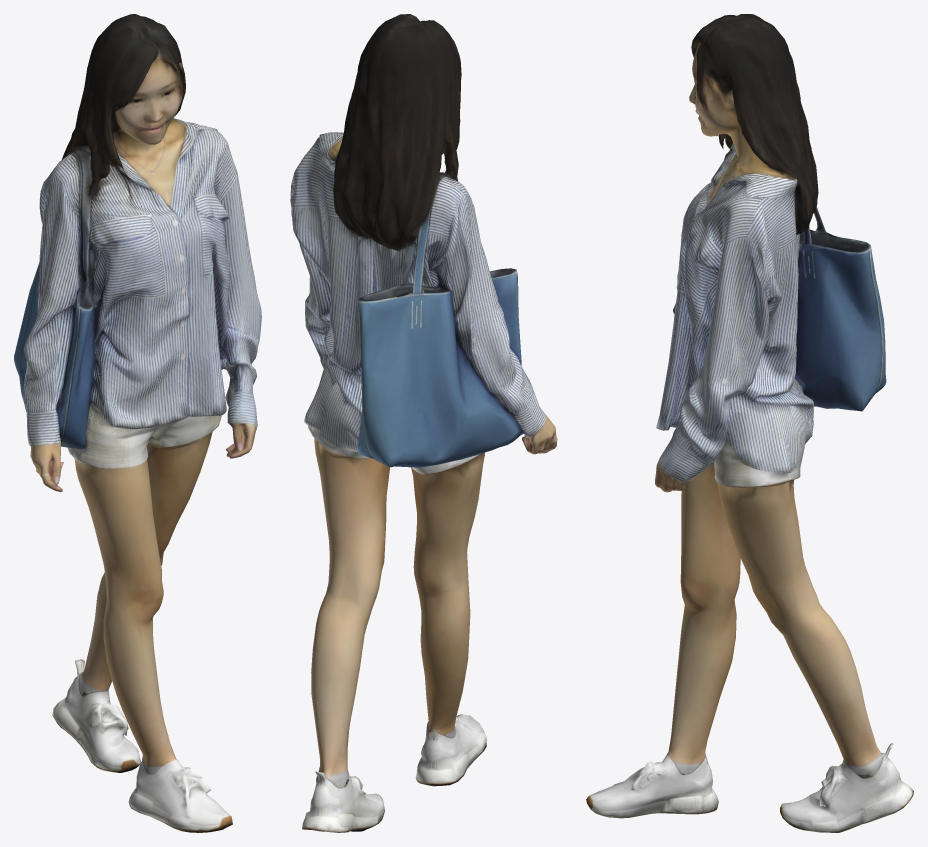
Rendered from woman_walk_01.glb.
The picture shows the model from 3 angles, left to right: view 1: azimuth 30°, elevation 25°; view 2: azimuth 150°, elevation 25°; view 3: azimuth 270°, elevation 25°; orthographic projection. The views are drawn at different scales.
Parts seen in each view (by area): view 1: Object_2; view 2: Object_2; view 3: Object_2.
Boxes of the visible parts, bbox=[...] form: Object_2: bbox=[14, 14, 261, 832]; Object_2: bbox=[290, 14, 557, 832]; Object_2: bbox=[586, 14, 913, 832].
Size of the model in its own units: 547 by 1716 by 640.
Materials: 1 (1 with a texture image).
